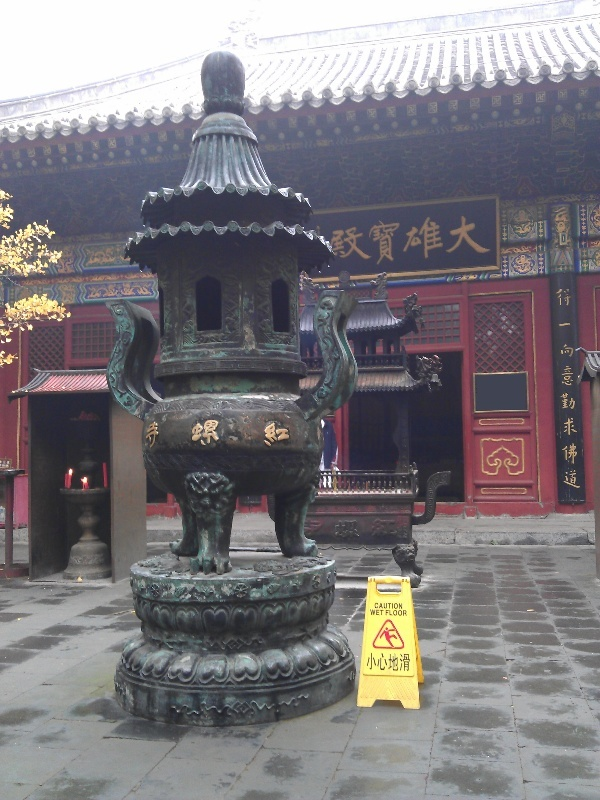text: (561, 286, 576, 489), (554, 286, 560, 489), (577, 286, 582, 489), (337, 213, 352, 268), (353, 213, 368, 268), (369, 213, 384, 268), (385, 213, 400, 268), (401, 213, 416, 268), (417, 213, 432, 268), (433, 213, 448, 268), (449, 213, 464, 268), (465, 213, 480, 268), (326, 213, 336, 268), (481, 213, 490, 268), (161, 420, 176, 449), (177, 420, 192, 449), (193, 420, 208, 449), (209, 420, 224, 449), (225, 420, 240, 449), (241, 420, 256, 449), (257, 420, 272, 449), (273, 420, 288, 449), (146, 420, 160, 449), (369, 652, 384, 672), (385, 652, 400, 672), (305, 519, 320, 539), (321, 519, 336, 539), (337, 519, 352, 539), (353, 519, 368, 539), (369, 519, 384, 539), (385, 519, 397, 539), (401, 652, 412, 672), (385, 603, 400, 610), (370, 609, 384, 616), (386, 610, 400, 617), (374, 603, 384, 610), (401, 610, 407, 617), (289, 420, 290, 449), (401, 603, 403, 610)
